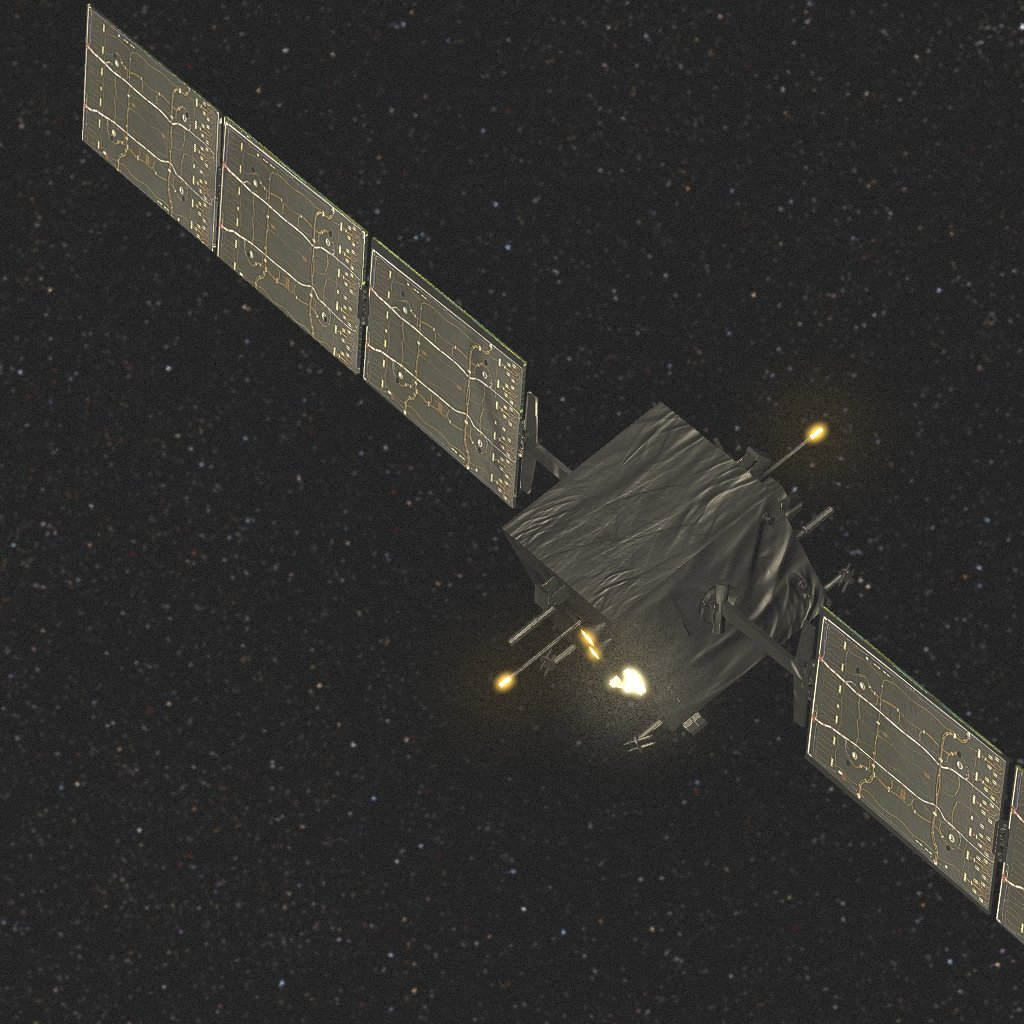smart_1: (82, 0, 1024, 944)
